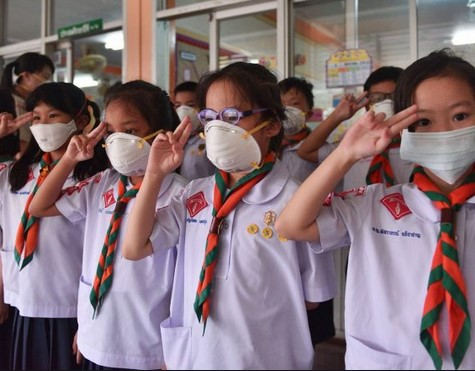face_with_mask: (393, 55, 473, 189), (200, 64, 282, 176), (103, 81, 174, 179), (27, 82, 88, 152), (276, 71, 316, 136), (360, 67, 389, 134), (13, 51, 52, 99), (174, 81, 197, 124)
